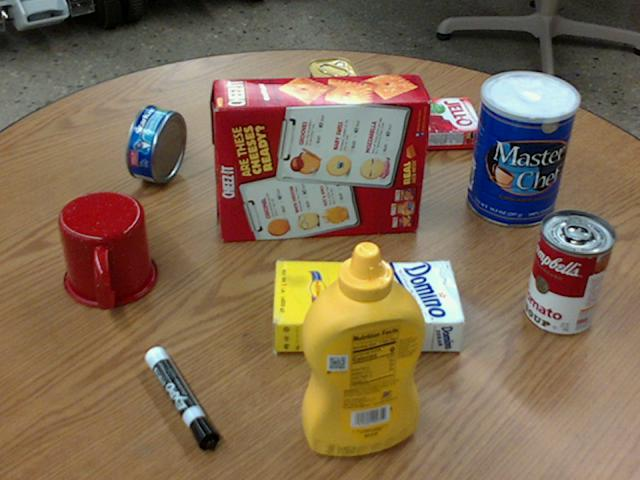cracker_box: (212, 73, 427, 241)
gelatin_box: (414, 96, 483, 146)
large_marker: (144, 347, 217, 449)
master_chef_can: (466, 71, 578, 226)
mug: (59, 191, 158, 307)
mustard_bottle: (300, 242, 424, 455)
potted_meat_can: (308, 57, 368, 153)
sugar_box: (272, 260, 465, 352)
tomato_soup_can: (526, 209, 615, 334)
tuna_fish_can: (126, 106, 184, 183)
